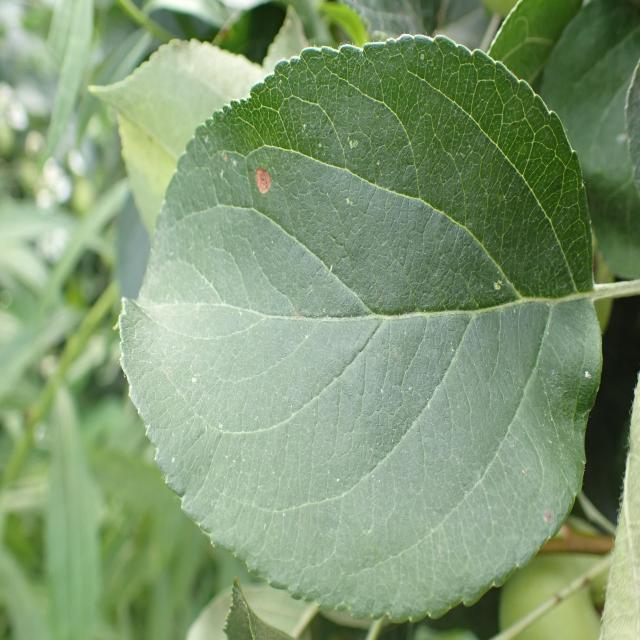frog-eye-leaf-spot: (117, 31, 602, 626)
